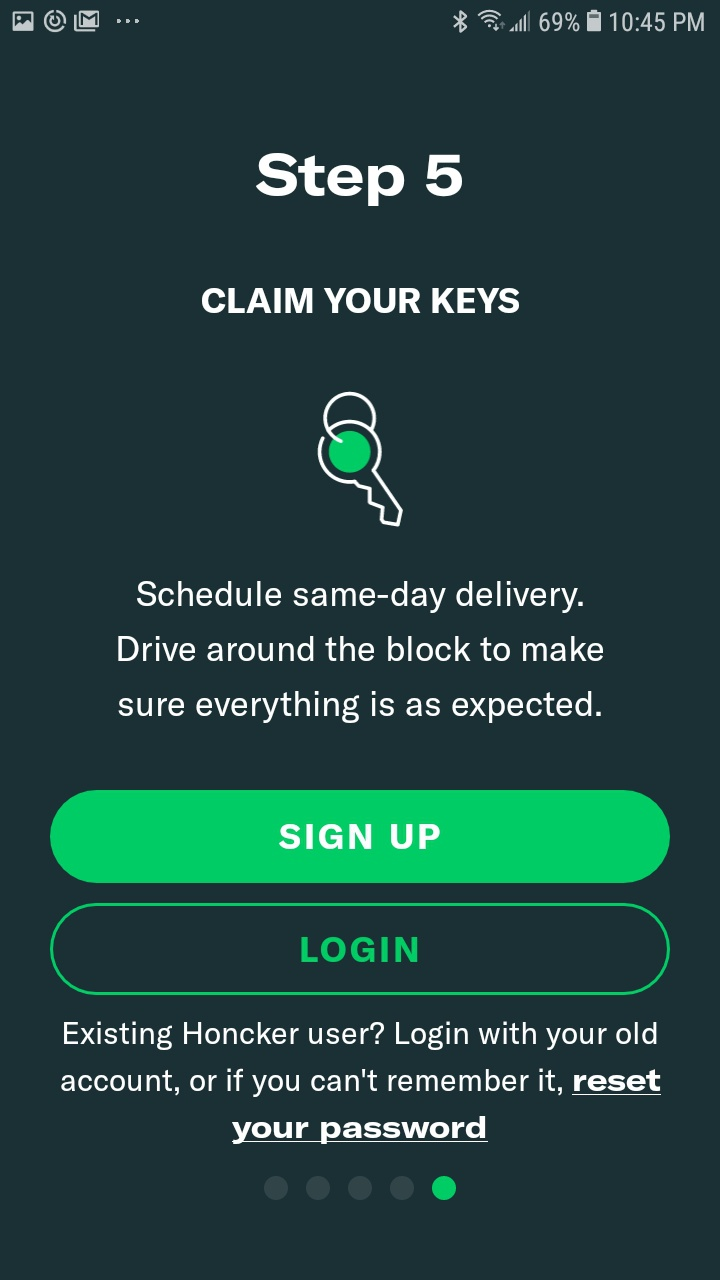Image: (317, 391, 405, 529)
PageIndicator: (264, 1174, 458, 1201)
Text: (60, 1020, 662, 1145), (117, 580, 604, 724), (255, 153, 463, 208), (201, 288, 520, 315)
TextButton: (49, 789, 671, 884), (50, 902, 671, 996)
UpperTaskBar: (1, 1, 720, 43)
